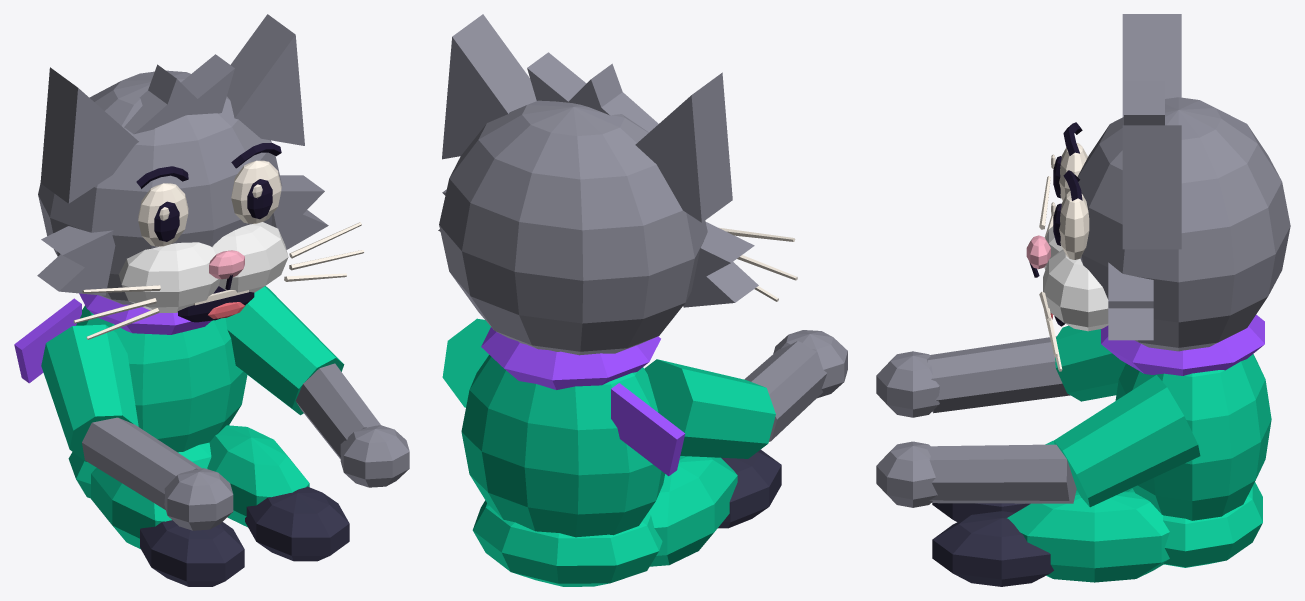
3 renders of one model, left to right at view 1: azimuth 30°, elevation 25°; view 2: azimuth 150°, elevation 25°; view 3: azimuth 270°, elevation 25°, orthographic. The views are drawn at different scales.
Visible parts, largest first — view 1: surface_fur (×2), surface_shirt, surface_boot, surface_fur_secondary, surface_ivory, surface_scarf, surface_ink, hand_l, hand_r, surface_ear_inner; view 2: surface_fur (×2), surface_shirt, surface_scarf, surface_boot, hand_r, surface_ivory; view 3: surface_fur (×2), surface_shirt, surface_boot, surface_scarf, surface_fur_secondary, surface_ivory, hand_r, hand_l, surface_ink, surface_ear_inner.
Part boxes in pixels (left/top/right/bottom): surface_fur (×2): left=37, top=14, right=380, bottom=509; surface_shirt: left=41, top=286, right=344, bottom=549; surface_boot: left=140, top=486, right=349, bottom=586; surface_fur_secondary: left=118, top=222, right=288, bottom=312; surface_ivory: left=73, top=160, right=364, bottom=339; surface_scarf: left=14, top=293, right=211, bottom=383; surface_ink: left=136, top=143, right=281, bottom=322; hand_l: left=340, top=425, right=409, bottom=487; hand_r: left=164, top=468, right=233, bottom=530; surface_ear_inner: left=209, top=250, right=244, bottom=279; surface_fur (×2): left=438, top=14, right=827, bottom=441; surface_shirt: left=442, top=318, right=775, bottom=586; surface_scarf: left=481, top=327, right=685, bottom=476; surface_boot: left=718, top=449, right=781, bottom=528; hand_r: left=773, top=330, right=847, bottom=398; surface_ivory: left=718, top=227, right=797, bottom=301; surface_fur (×2): left=927, top=14, right=1290, bottom=503; surface_shirt: left=1007, top=325, right=1271, bottom=582; surface_boot: left=932, top=503, right=1053, bottom=586; surface_scarf: left=1101, top=314, right=1264, bottom=375; surface_fur_secondary: left=1043, top=226, right=1108, bottom=331; surface_ivory: left=1039, top=143, right=1089, bottom=371; hand_r: left=876, top=351, right=939, bottom=417; hand_l: left=876, top=441, right=937, bottom=507; surface_ink: left=1029, top=122, right=1082, bottom=326; surface_ear_inner: left=1026, top=235, right=1050, bottom=269.
Bounding box in the file's own units: 0.7709 × 1.17 × 0.9128.
